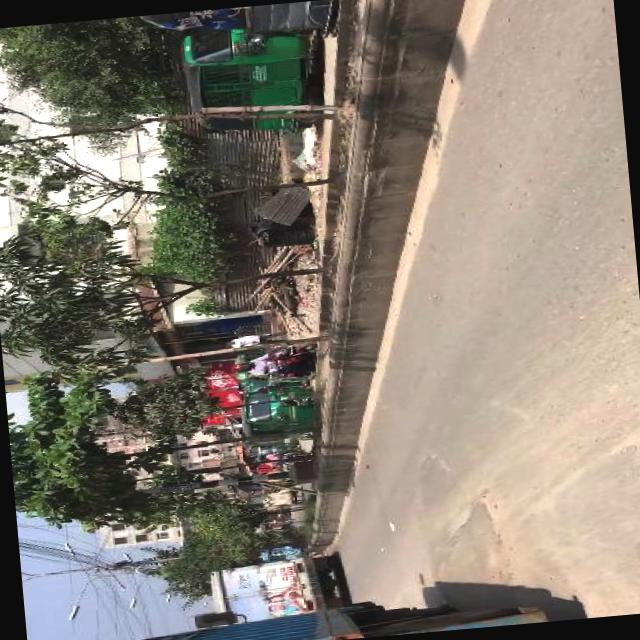motorcycle: (186, 27, 322, 136), (237, 383, 316, 445), (260, 339, 314, 385), (268, 446, 310, 468), (256, 438, 298, 454)
truck: (86, 585, 542, 640), (206, 553, 347, 622)
